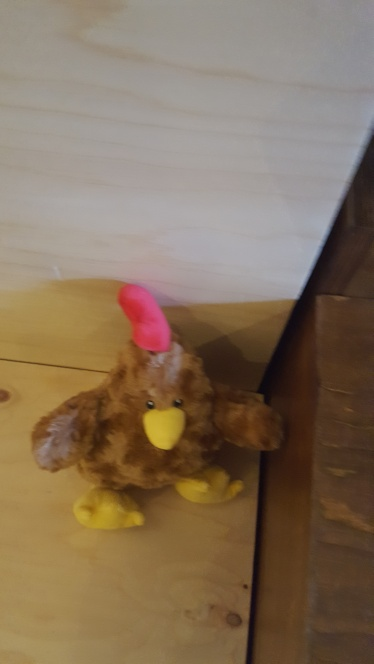chicken_front: (29, 285, 285, 535)
